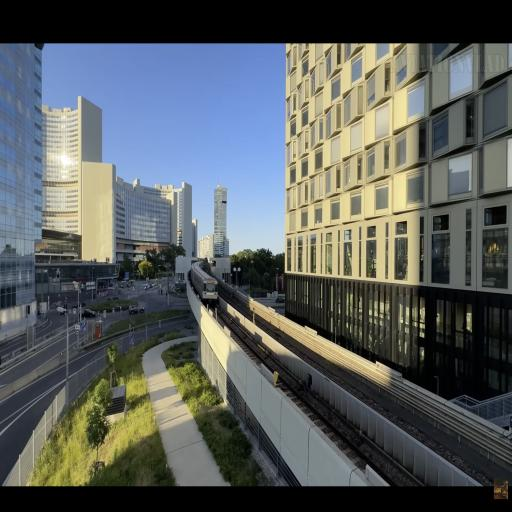Silberpfeil: (189, 260, 220, 304)
